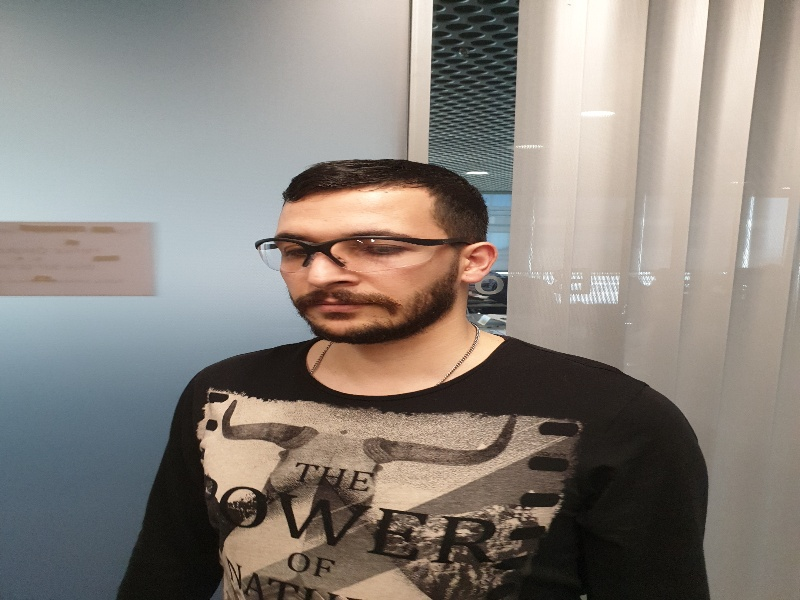Gozluk: (246, 226, 464, 267)
